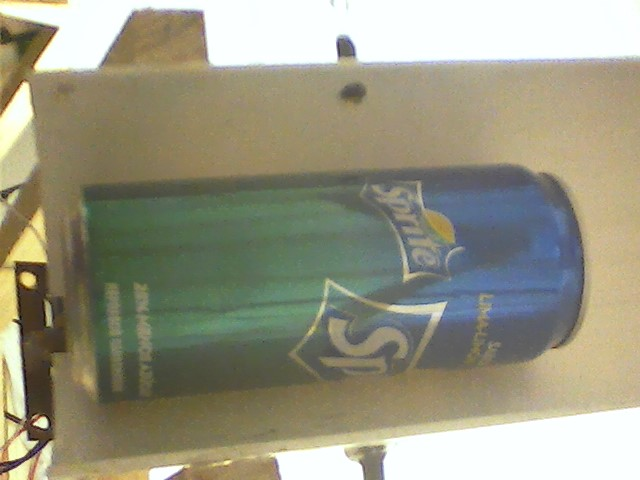lata: (54, 162, 606, 411)
